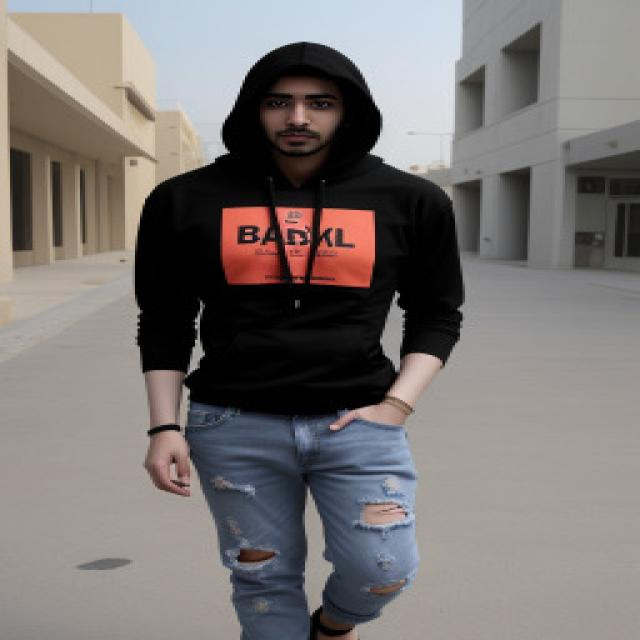Ai human 2: (103, 33, 498, 640)
